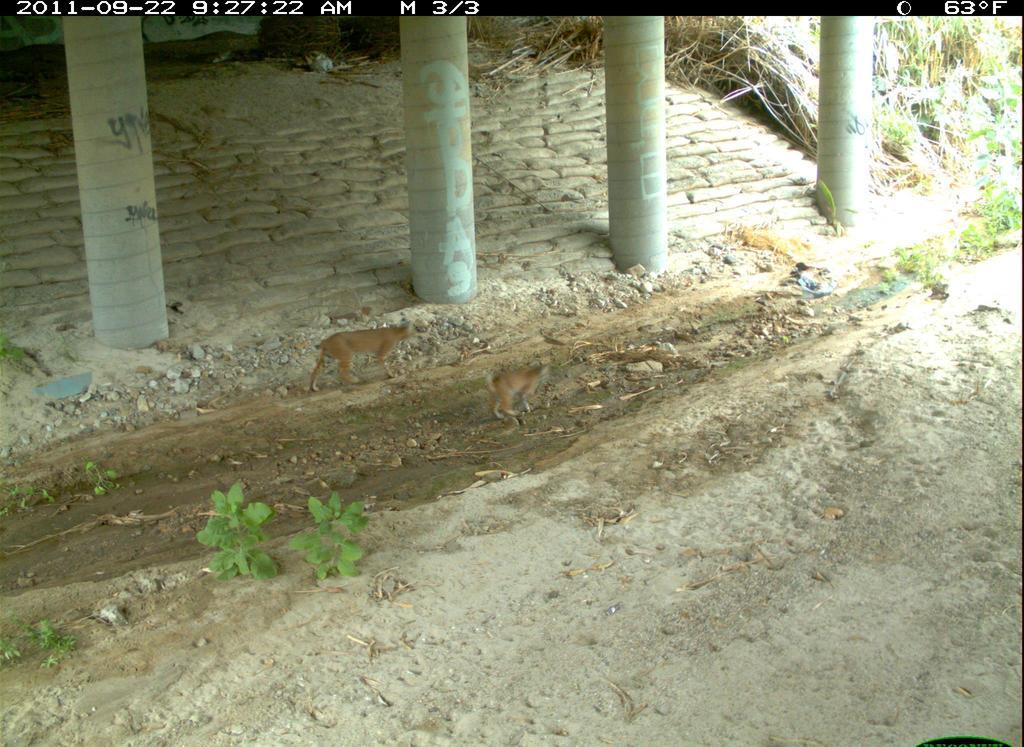bobcat: (604, 629, 849, 747), (959, 711, 1024, 747)
